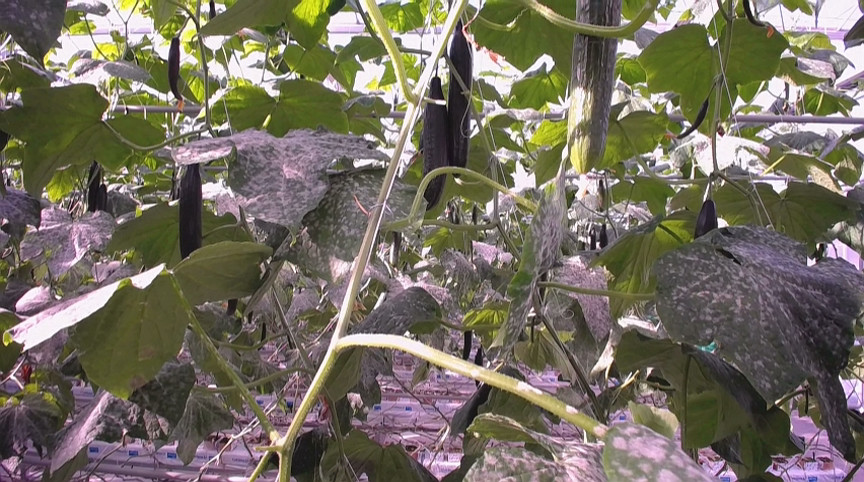cucumber: (569, 2, 624, 172), (450, 24, 473, 170), (423, 76, 448, 204), (178, 165, 203, 255)
